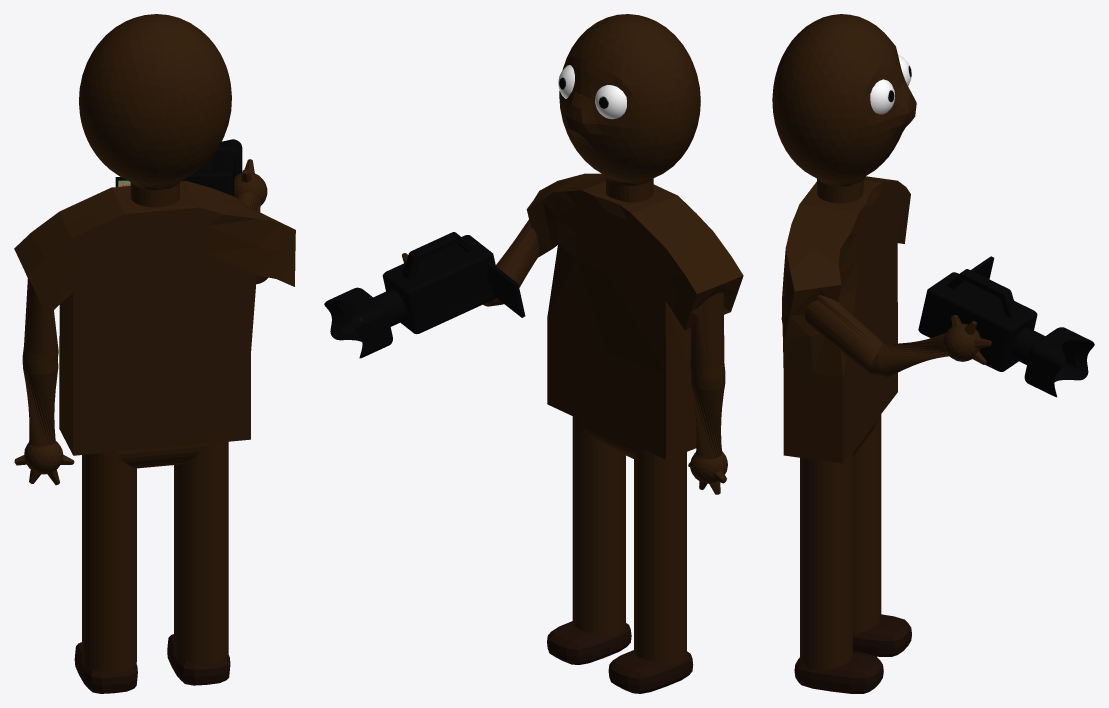
File: melm2.obj
3 views of the same model, side by side, from view 1: azimuth 30°, elevation 25°; view 2: azimuth 150°, elevation 25°; view 3: azimuth 270°, elevation 25° (orthographic). The views are drawn at different scales.
Visible parts, largest first — view 1: body, shoes, obj_0; view 2: body, obj_0, shoes; view 3: body, obj_0, shoes.
Boxes of the visible parts, bbox=[...] form: body: bbox=[14, 14, 295, 673]; shoes: bbox=[74, 634, 230, 693]; obj_0: bbox=[115, 139, 242, 196]; body: bbox=[402, 14, 743, 665]; obj_0: bbox=[324, 232, 525, 358]; shoes: bbox=[547, 621, 693, 693]; body: bbox=[772, 14, 991, 670]; obj_0: bbox=[918, 256, 1094, 397]; shoes: bbox=[794, 614, 911, 693].
Bounding box in the file's own units: 0.7259 × 1.43 × 0.6459.
